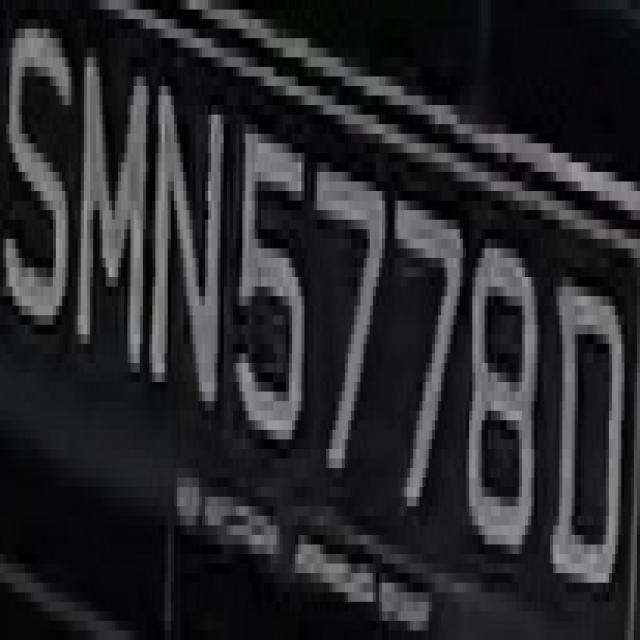5: (233, 105, 314, 459)
7: (385, 153, 463, 592), (307, 124, 388, 516)
8: (463, 191, 544, 564)
D: (553, 230, 631, 630)
M: (78, 48, 149, 439)
N: (143, 86, 220, 439)
S: (3, 29, 75, 392)
